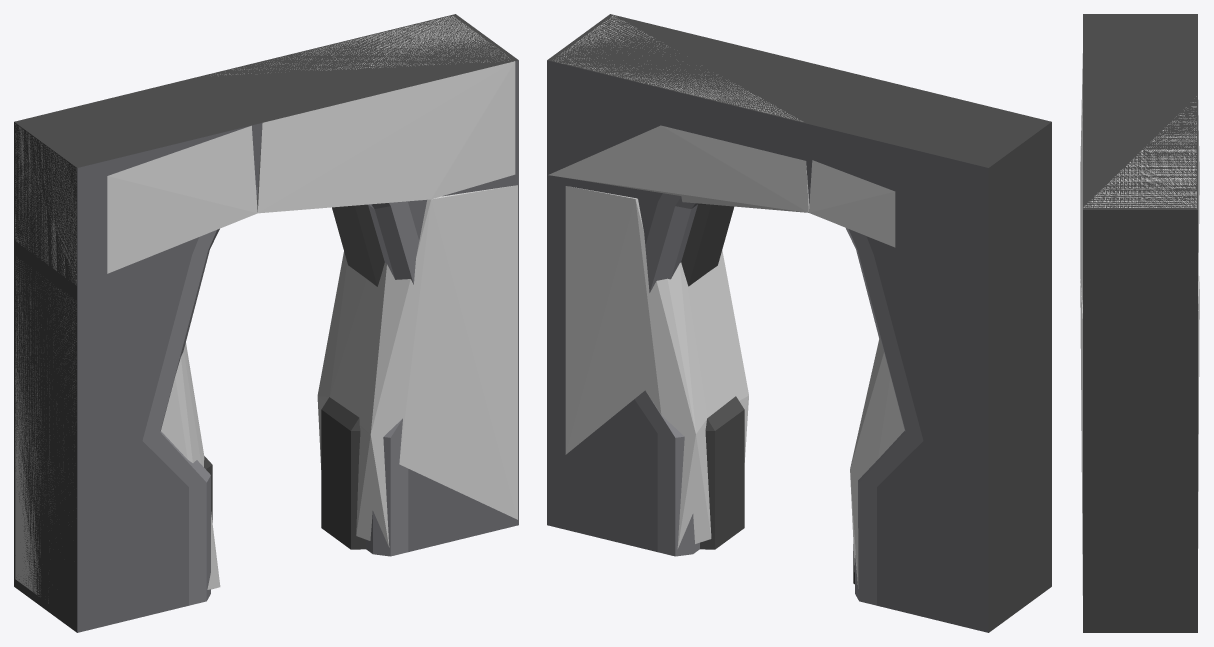
Rendered from SM_Bld_Corridor_Single_Arch_02.fbx.
3 views of the same model, side by side, from view 1: azimuth 30°, elevation 25°; view 2: azimuth 150°, elevation 25°; view 3: azimuth 270°, elevation 25° (orthographic). The views are drawn at different scales.
Visible parts, largest first — view 1: SM_Bld_Corridor_Single_Arch_02_LOD0, SM_Bld_Corridor_Single_Arch_02_ConvexHulls; view 2: SM_Bld_Corridor_Single_Arch_02_LOD0, SM_Bld_Corridor_Single_Arch_02_ConvexHulls; view 3: SM_Bld_Corridor_Single_Arch_02_LOD0, SM_Bld_Corridor_Single_Arch_02_ConvexHulls.
Boxes of the visible parts, x1,y1,x2,y2 form: SM_Bld_Corridor_Single_Arch_02_LOD0: (14, 14, 518, 632); SM_Bld_Corridor_Single_Arch_02_ConvexHulls: (15, 16, 517, 603); SM_Bld_Corridor_Single_Arch_02_LOD0: (547, 14, 1051, 632); SM_Bld_Corridor_Single_Arch_02_ConvexHulls: (548, 15, 904, 588); SM_Bld_Corridor_Single_Arch_02_LOD0: (1083, 14, 1197, 632); SM_Bld_Corridor_Single_Arch_02_ConvexHulls: (1080, 53, 1199, 595).
Size of the model in its own units: 127 by 491 by 497.
Materials: 1 (1 with a texture image).
